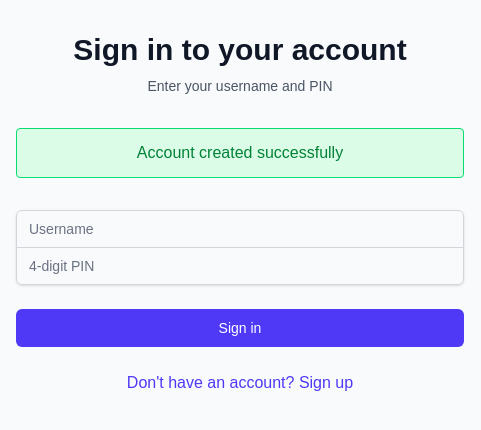
Test: SignInPage › should display error message for invalid credentials
This screenshot has width=481, height=430.
Type "testuser" into the field with placeholder "Username".
click(240, 228); type("testuser")  # box [16,210,464,248]
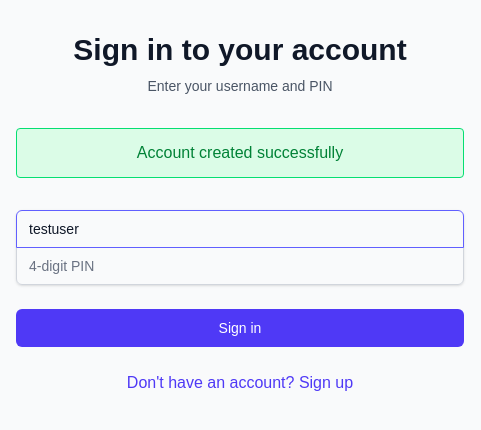
Type "9999" into the password field with placeholder "4-digit PIN".
click(240, 266); type("9999")  # box [16,246,464,284]
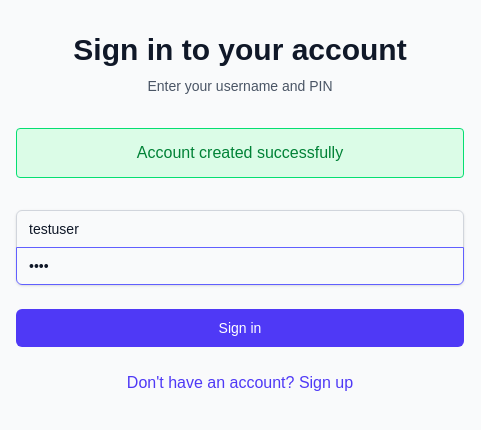
Click the button "Sign in".
click(240, 328)  # box [16,308,464,346]
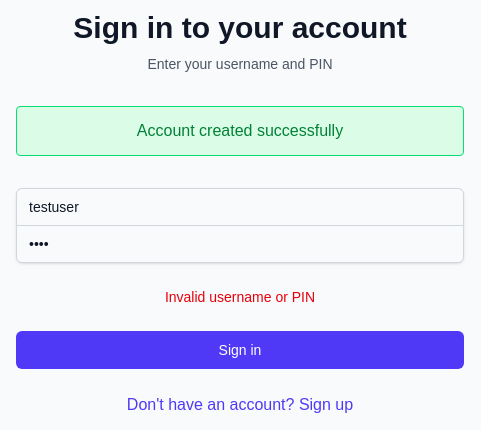
Now the text "Invalid username or PIN" is shown, box [165,288,315,304]
